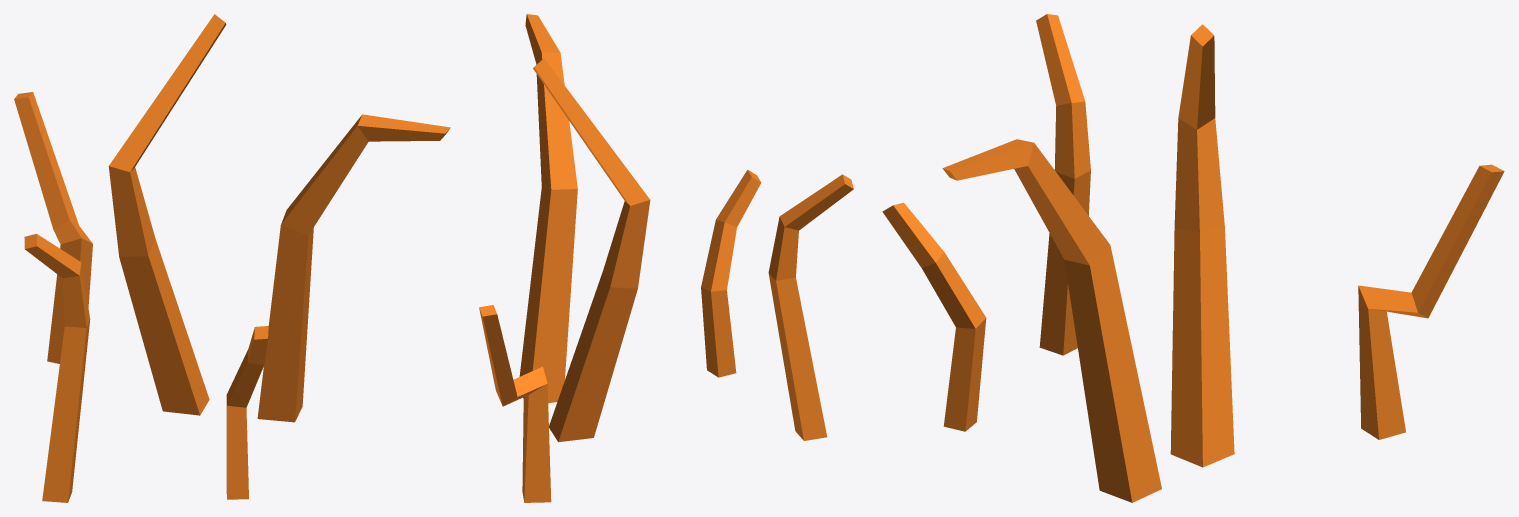
File: st1_grass4.fbx
The picture shows the model from 3 angles, left to right: view 1: azimuth 30°, elevation 25°; view 2: azimuth 150°, elevation 25°; view 3: azimuth 270°, elevation 25°; orthographic projection. The views are drawn at different scales.
Visible parts, largest first — view 1: BezierCurve_003; view 2: BezierCurve_003; view 3: BezierCurve_003.
Boxes of the visible parts, x1=… form: BezierCurve_003: x1=14, y1=14, x2=450, y2=502; BezierCurve_003: x1=479, y1=14, x2=853, y2=502; BezierCurve_003: x1=882, y1=14, x2=1504, y2=502.
Size of the model in its own units: 92.09 by 88.1 by 111.
